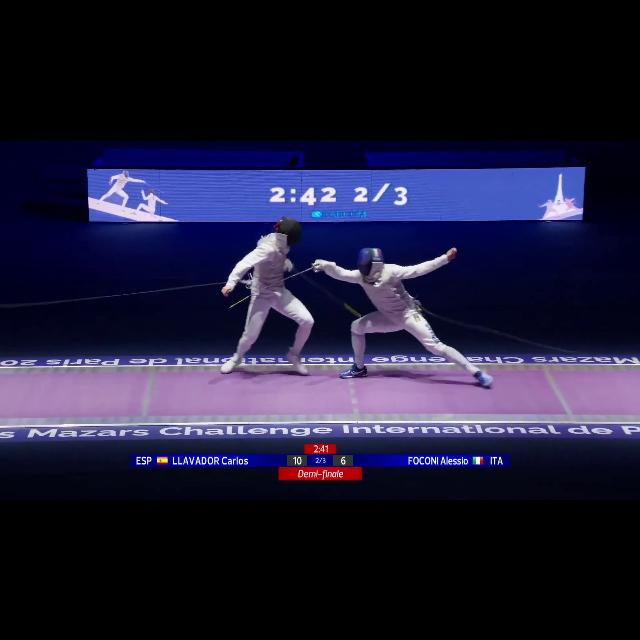blade: (230, 260, 324, 310), (282, 260, 363, 318)
